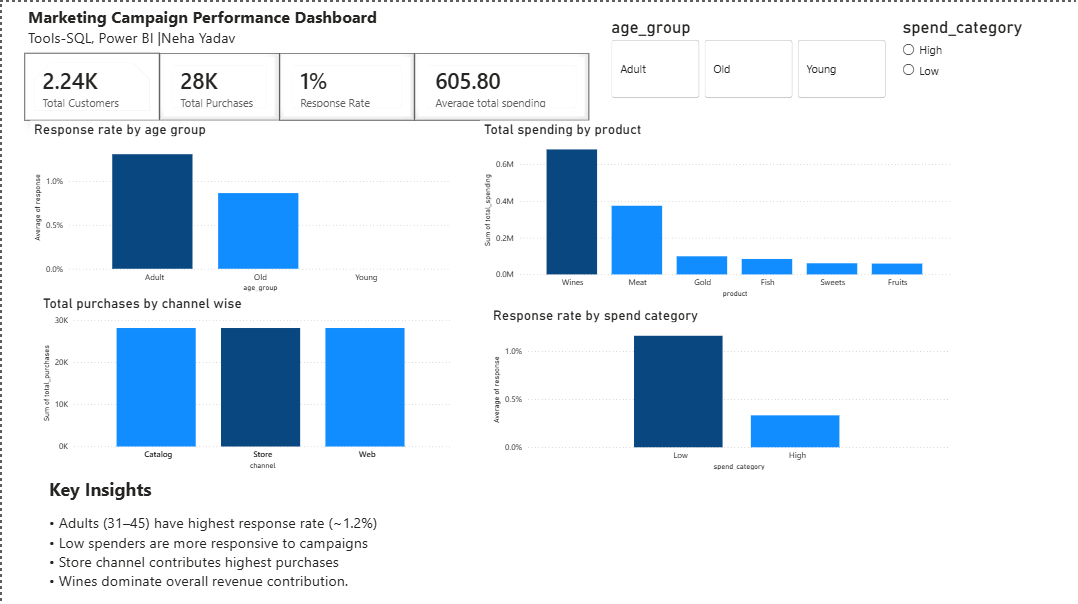

The dashboard page shown, as its layout file describes it:
{"tool":"powerbi","page":{"name":"Page 1","canvas":[1600,900],"ordinal":0},"visuals":[{"type":"textbox","box":[33.3,0,636.1,75],"z":0},{"type":"cardVisual","fields":{"Data":["Count(public customer_segments.id)"]},"box":[33.3,75,200,100],"z":1000},{"type":"cardVisual","fields":{"Data":["Sum(public customer_segments.total_purchases)"]},"box":[233.3,75,177.8,100],"z":2000},{"type":"columnChart","title":"Response rate by age group","fields":{"Category":["public customer_segments.age_group"],"Y":["Avg(public customer_segments.response)"]},"box":[41.7,175,627.8,258.3],"z":3000},{"type":"cardVisual","fields":{"Data":["Avg(public customer_segments.total_spending)"]},"box":[611.1,75,258.3,100],"z":4000},{"type":"columnChart","title":"Response rate by spend category","fields":{"Category":["public customer_segments.spend_category"],"Y":["Avg(public customer_segments.response)"]},"box":[722.2,450,686.1,247.2],"z":5000},{"type":"columnChart","title":"Total purchases by channel wise","fields":{"Category":["public channel_long.channel"],"Y":["Sum(public customer_segments.total_purchases)"]},"box":[55.6,433.3,613.9,263.9],"z":6000},{"type":"cardVisual","fields":{"Data":["Avg(public customer_segments.response)"]},"box":[411.1,75,200,100],"z":7000},{"type":"textbox","box":[63.9,697.2,1480.6,202.8],"z":8000},{"type":"columnChart","title":"Total spending by product","fields":{"Category":["public product_long.product"],"Y":["Sum(public product_long.total_spending)"]},"box":[708.3,175,700,266.7],"z":9000},{"type":"advancedSlicerVisual","fields":{"Values":["public customer_segments.age_group"]},"box":[897.2,22.2,416.7,125],"z":10000},{"type":"listSlicer","fields":{"Values":["public customer_segments.spend_category"]},"box":[1327.8,22.2,252.8,125],"z":11000}]}

Visuals, with their boxes in screenshot pixels (x1, y1, x2, y2), scaled from the page's 1600x900 canvas onto the 1078x604 screenshot:
textbox: 22:0:451:50
cardVisual - Count(public customer_segments.id): 22:50:157:117
cardVisual - Sum(public customer_segments.total_purchases): 157:50:277:117
"Response rate by age group" columnChart: 28:117:451:291
cardVisual - Avg(public customer_segments.total_spending): 412:50:586:117
"Response rate by spend category" columnChart: 487:302:949:468
"Total purchases by channel wise" columnChart: 37:291:451:468
cardVisual - Avg(public customer_segments.response): 277:50:412:117
textbox: 43:468:1041:603
"Total spending by product" columnChart: 477:117:949:296
advancedSlicerVisual - public customer_segments.age_group: 604:15:885:99
listSlicer - public customer_segments.spend_category: 895:15:1065:99
